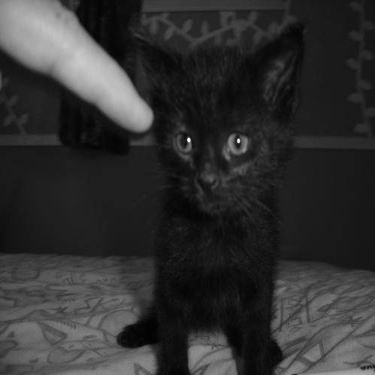cat: (112, 8, 304, 371)
